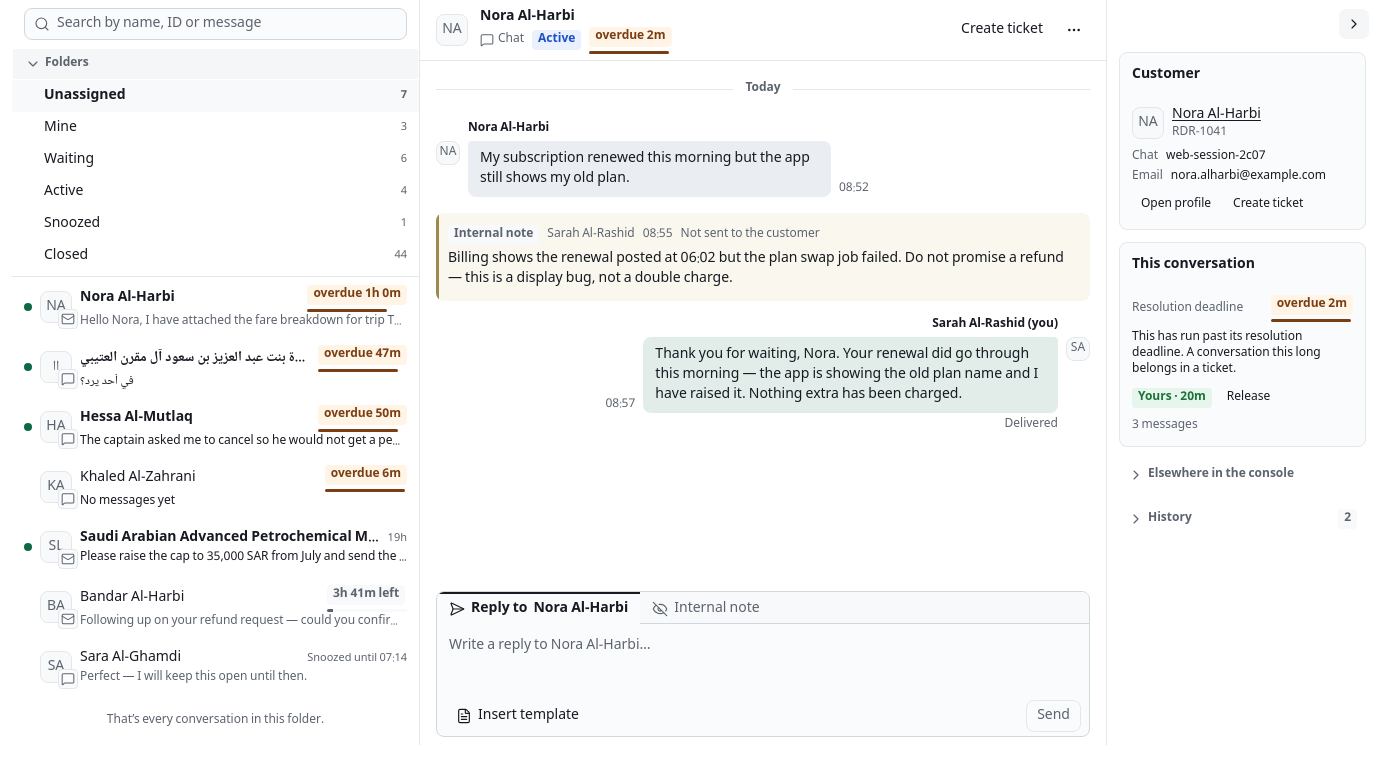
Scenario: AC-CC-11 the register is unmistakable › names the register in the tab, the placeholder and the button, fills no button in the note register, and returns to Reply after a note
Click the tab "Internal note". click: (706, 608)
box: [640, 592, 772, 623]
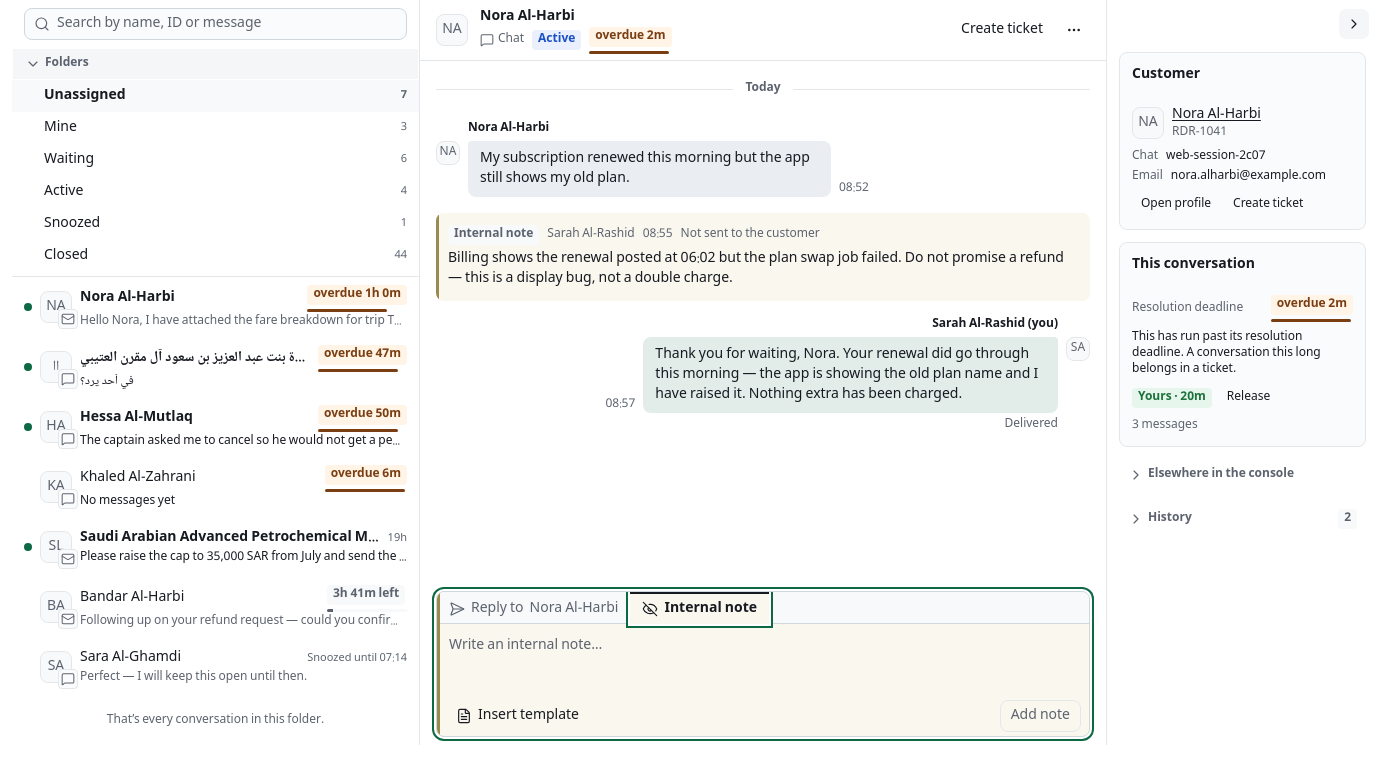
Now the tab "Internal note" is selected, box [630, 592, 769, 624]
Now the text box labelled "internal note" has attribute placeholder="Write an internal note…"
Now the button "Add note" has attribute data-variant="secondary", box [1000, 700, 1081, 732]
Type "Billing shows the escrow is stuck." into the text box labelled "internal note". click: (763, 660)
box: [437, 624, 1089, 696]
Then press Enter
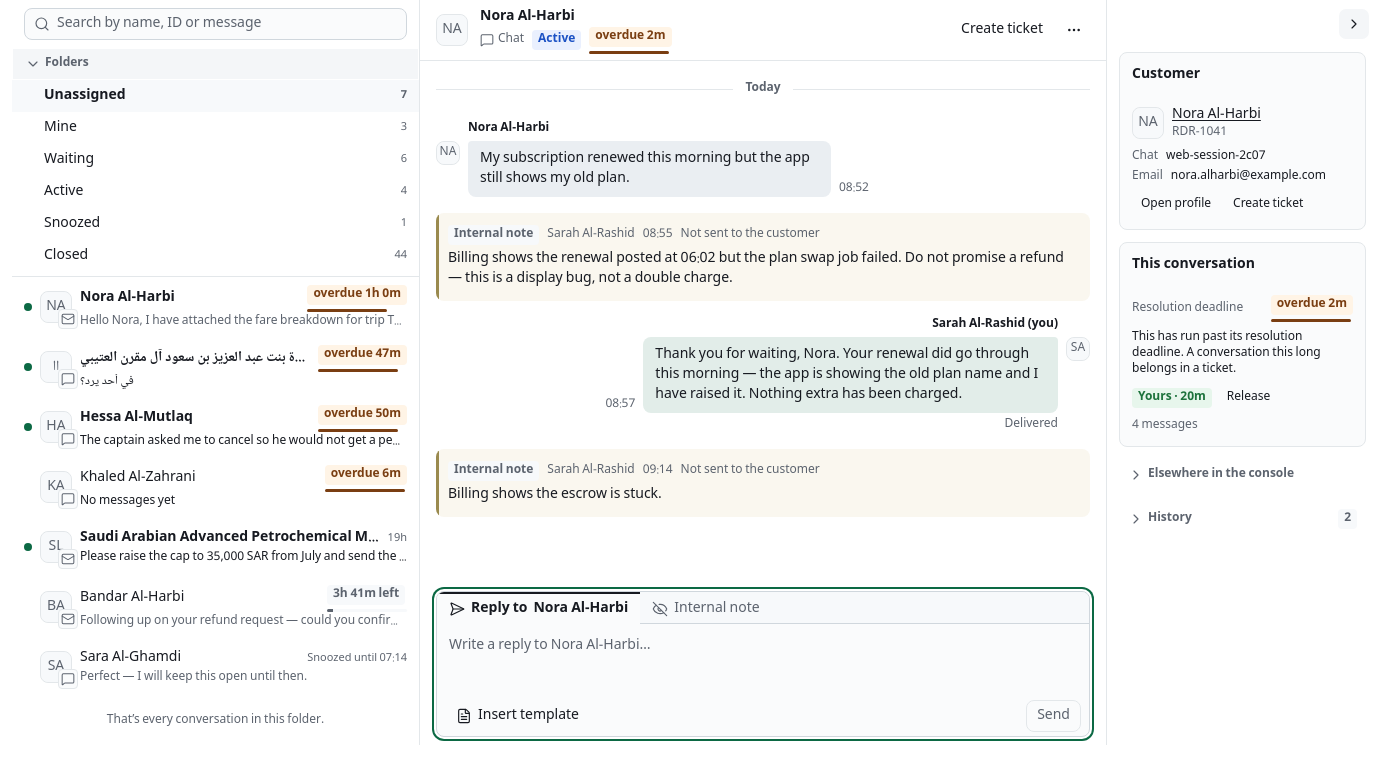
Now the text "Billing shows the escrow is stuck." is shown, box [448, 483, 662, 507]
Now the button "Send" is shown, box [1026, 700, 1081, 732]
